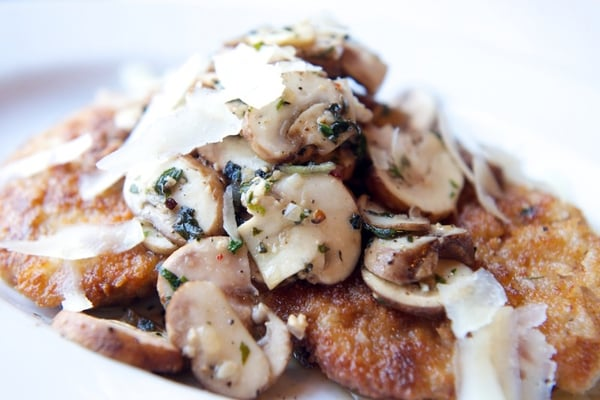sandwich: (0, 18, 596, 396)
